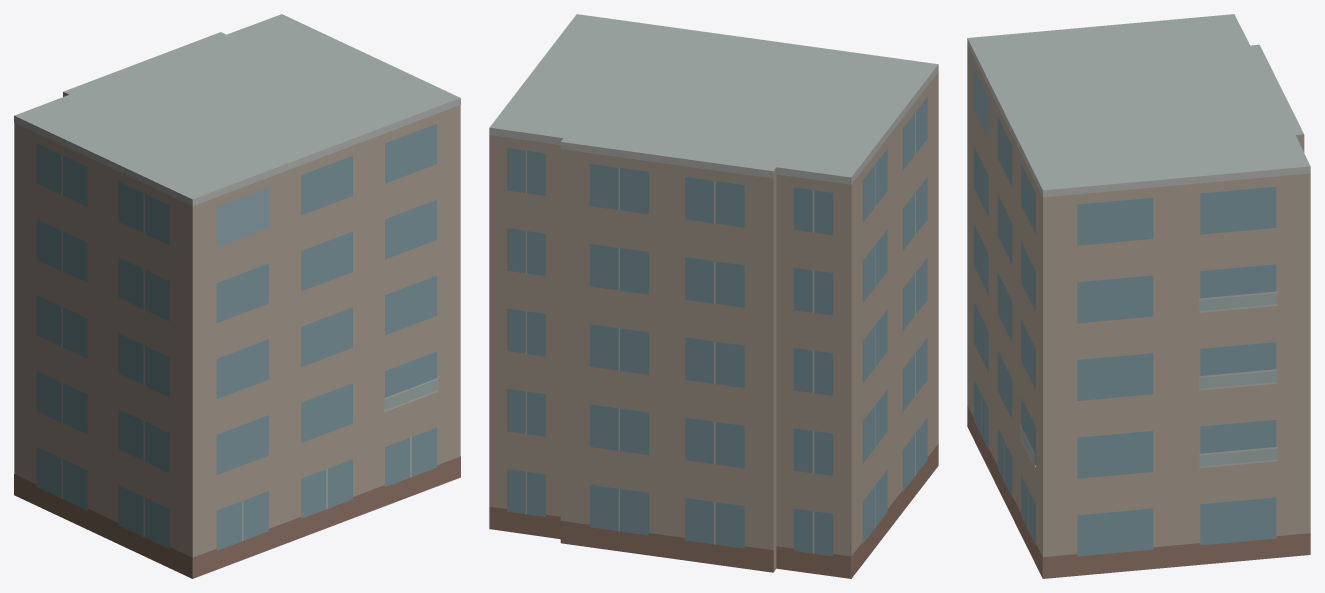
Rendered from survey-upis-33018607.glb.
The picture shows the model from 3 angles, left to right: view 1: azimuth 30°, elevation 25°; view 2: azimuth 150°, elevation 25°; view 3: azimuth 270°, elevation 25°; orthographic projection. The views are drawn at different scales.
Visible parts, largest first — view 1: survey-upis-33018607.tmp; view 2: survey-upis-33018607.tmp; view 3: survey-upis-33018607.tmp.
Part boxes in pixels (x1=…): survey-upis-33018607.tmp: x1=14, y1=14, x2=460, y2=578; survey-upis-33018607.tmp: x1=489, y1=14, x2=938, y2=578; survey-upis-33018607.tmp: x1=967, y1=14, x2=1310, y2=578.
Bounding box in the file's own units: 13.16 × 13.5 × 10.82.
